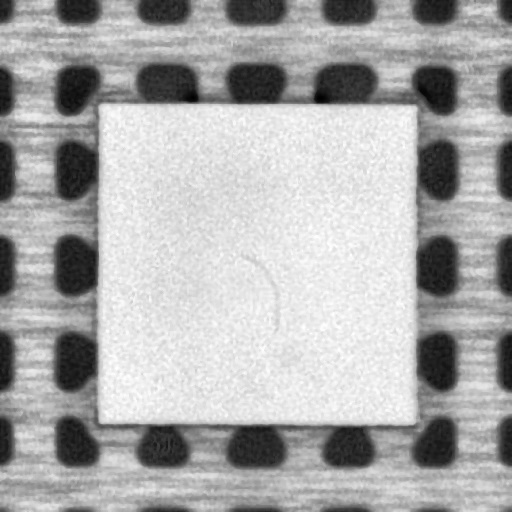DIE_CRACK: (237, 250, 279, 332)
